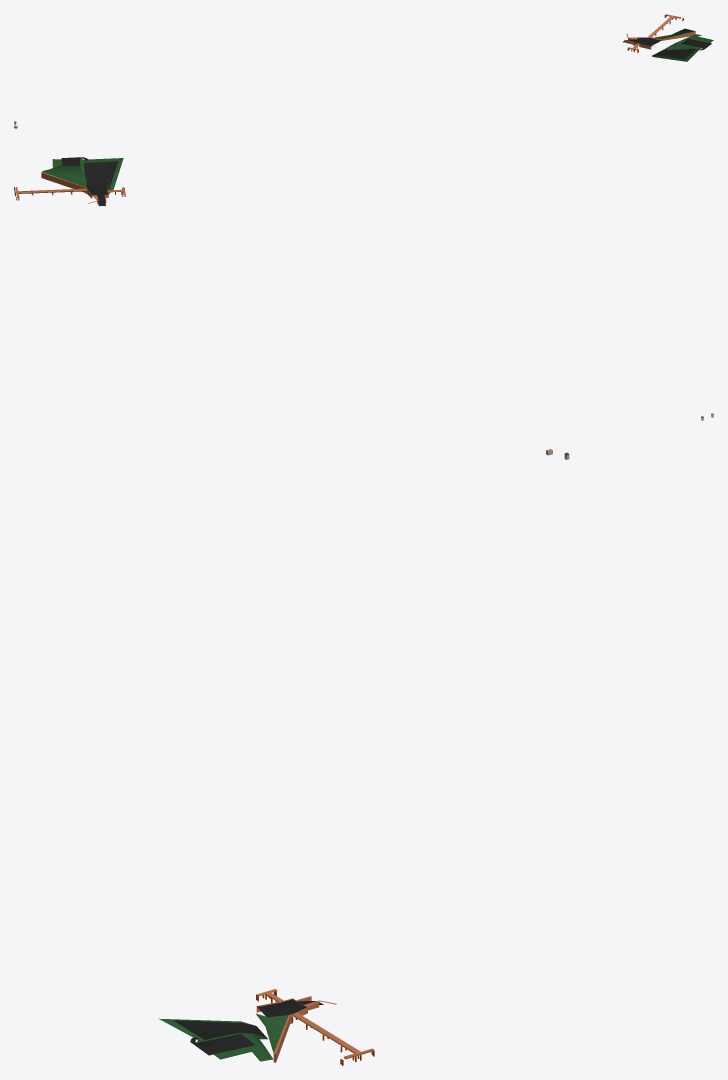
File: boatrampunfin1.glb
The picture shows the model from 3 angles, top to bottom: view 1: azimuth 30°, elevation 25°; view 2: azimuth 150°, elevation 25°; view 3: azimuth 270°, elevation 25°; orthographic projection. The views are drawn at different scales.
Visible parts, largest first — view 1: Boat Launch.003, Boat Launch.002; view 2: Boat Launch.002, Boat Launch.003; view 3: Boat Launch.003, Boat Launch.002.
Boxes of the visible parts, x1,y1,x2,y2 form: Boat Launch.003: (651, 34, 713, 61); Boat Launch.002: (623, 14, 695, 52); Boat Launch.002: (14, 165, 125, 206); Boat Launch.003: (42, 157, 123, 193); Boat Launch.003: (159, 1018, 273, 1061); Boat Launch.002: (256, 989, 374, 1065).
Bounding box in the file's own units: 1.94 × 0.0526 × 0.5596.
